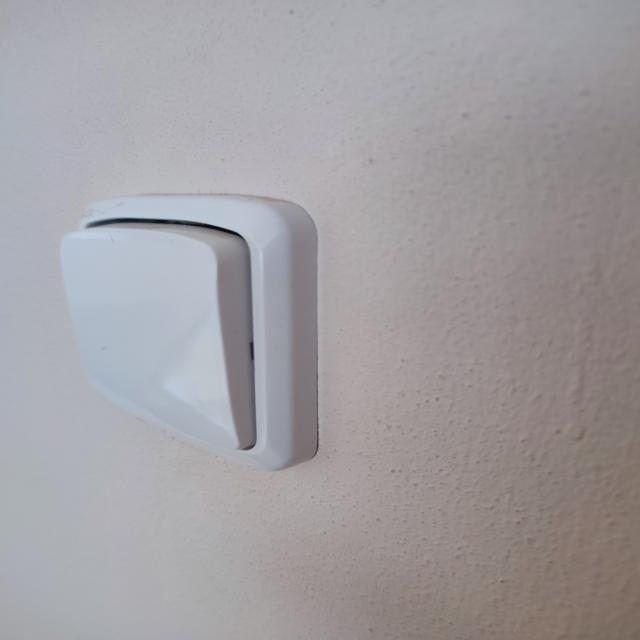house switch: (58, 194, 319, 474)
